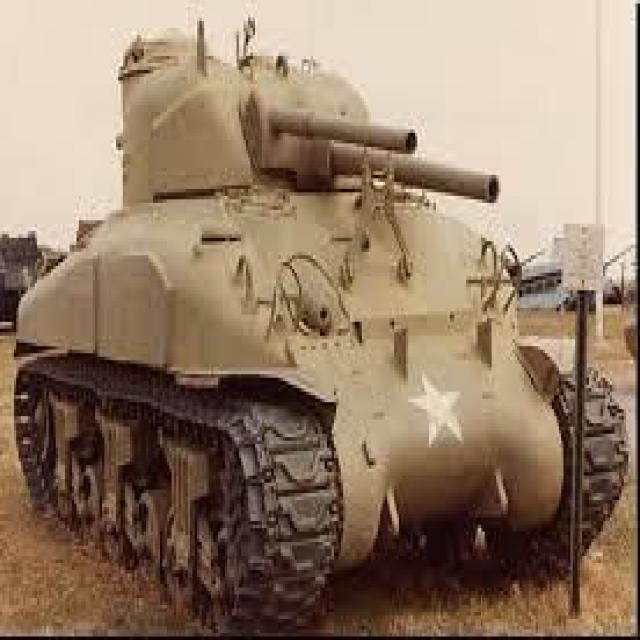Tanks: (15, 12, 613, 593)
